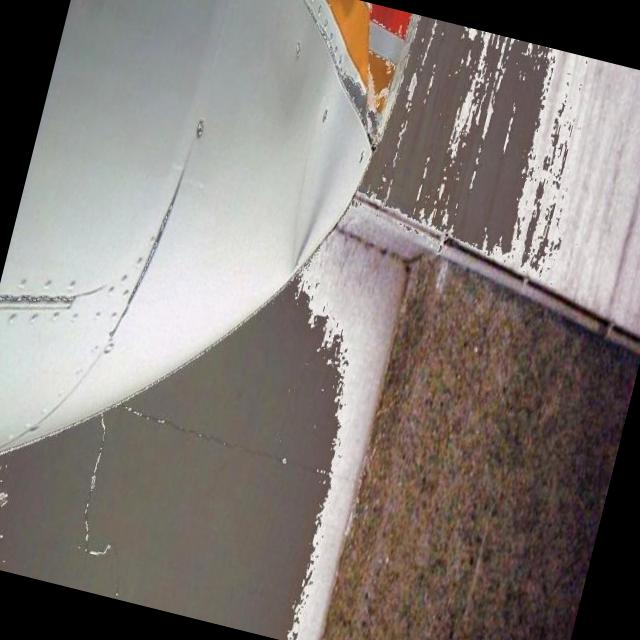crack: (109, 160, 187, 348), (76, 417, 110, 554), (127, 408, 231, 447), (0, 293, 72, 308)
dent: (0, 275, 353, 640), (359, 14, 580, 269), (261, 0, 396, 285)
